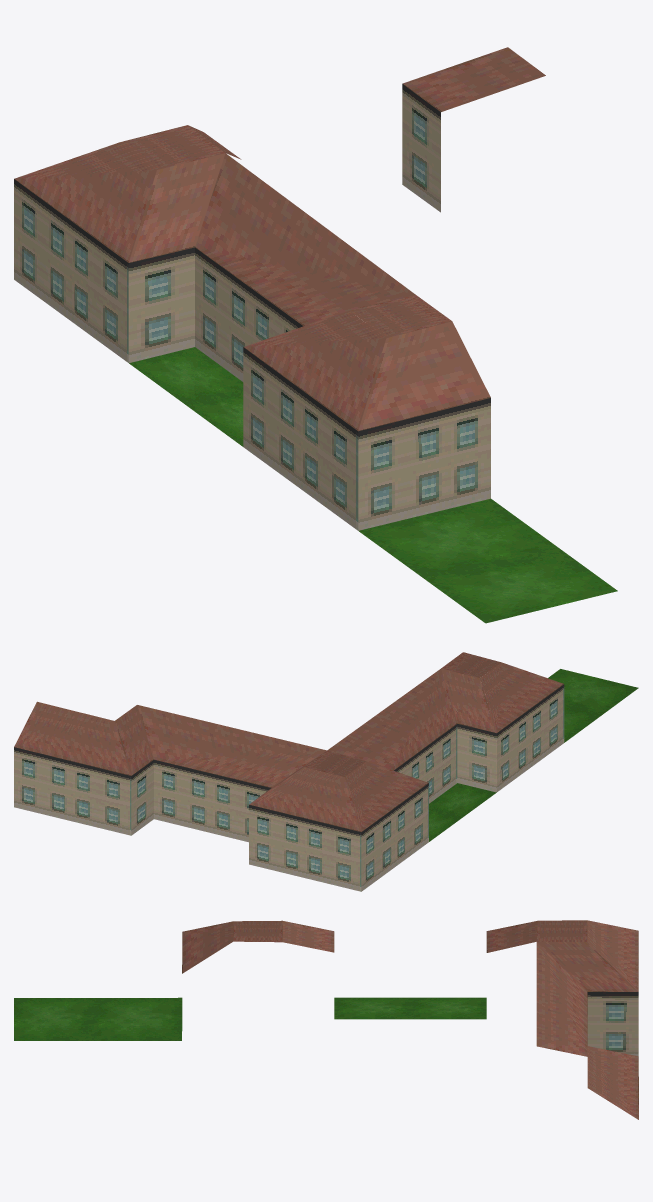
File: AApart02.glb
The picture shows the model from 3 angles, top to bottom: view 1: azimuth 30°, elevation 25°; view 2: azimuth 150°, elevation 25°; view 3: azimuth 270°, elevation 25°; orthographic projection. The views are drawn at different scales.
Parts seen in each view (by area): view 1: AApart02; view 2: AApart02; view 3: AApart02.
Part boxes in pixels (x1,y1,x2,y2): AApart02: (14,47,617,623); AApart02: (14,652,638,891); AApart02: (14,920,638,1119).
Size of the model in its own units: 7634 by 1866 by 10607.
Materials: 3 (3 with a texture image).
